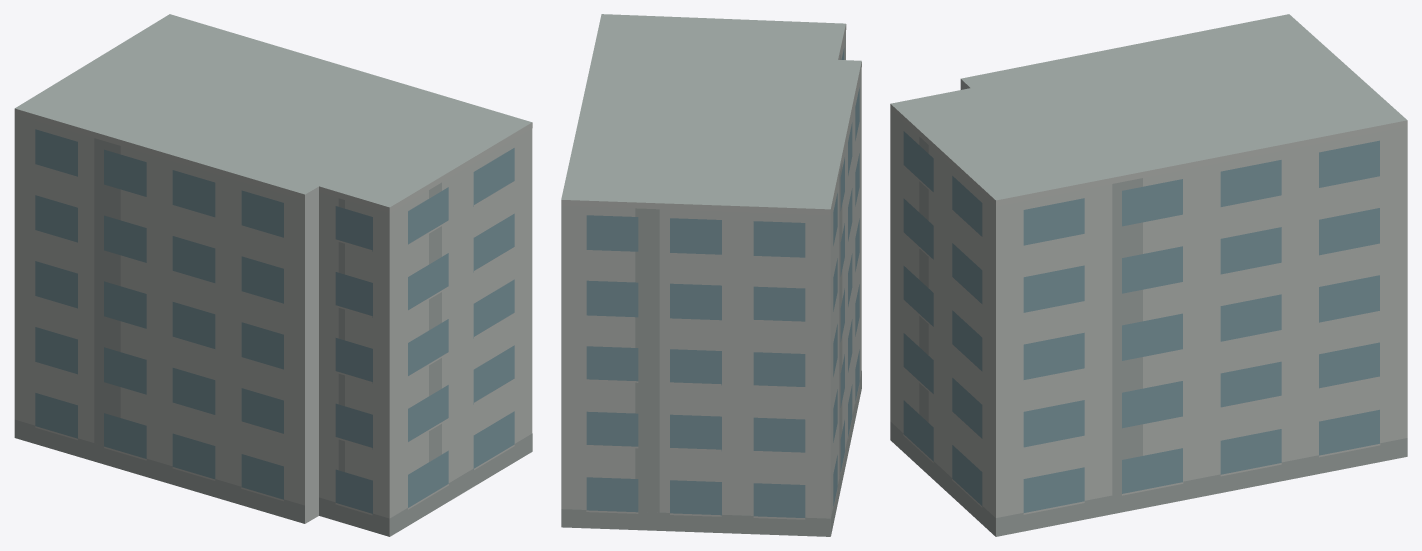
File: survey-upis-32532235.glb
The picture shows the model from 3 angles, left to right: view 1: azimuth 30°, elevation 25°; view 2: azimuth 150°, elevation 25°; view 3: azimuth 270°, elevation 25°; orthographic projection. The views are drawn at different scales.
Parts seen in each view (by area): view 1: survey-upis-32532235.tmp; view 2: survey-upis-32532235.tmp; view 3: survey-upis-32532235.tmp.
Part boxes in pixels (x1=…): survey-upis-32532235.tmp: x1=14, y1=14, x2=532, y2=536; survey-upis-32532235.tmp: x1=561, y1=14, x2=861, y2=536; survey-upis-32532235.tmp: x1=890, y1=14, x2=1407, y2=536.
Bounding box in the file's own units: 15.82 × 13.3 × 18.54.
